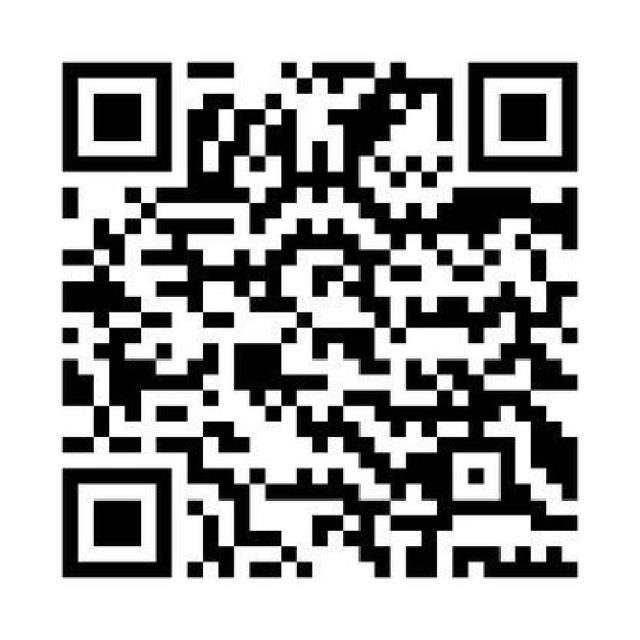QRCode: (52, 49, 593, 589)
